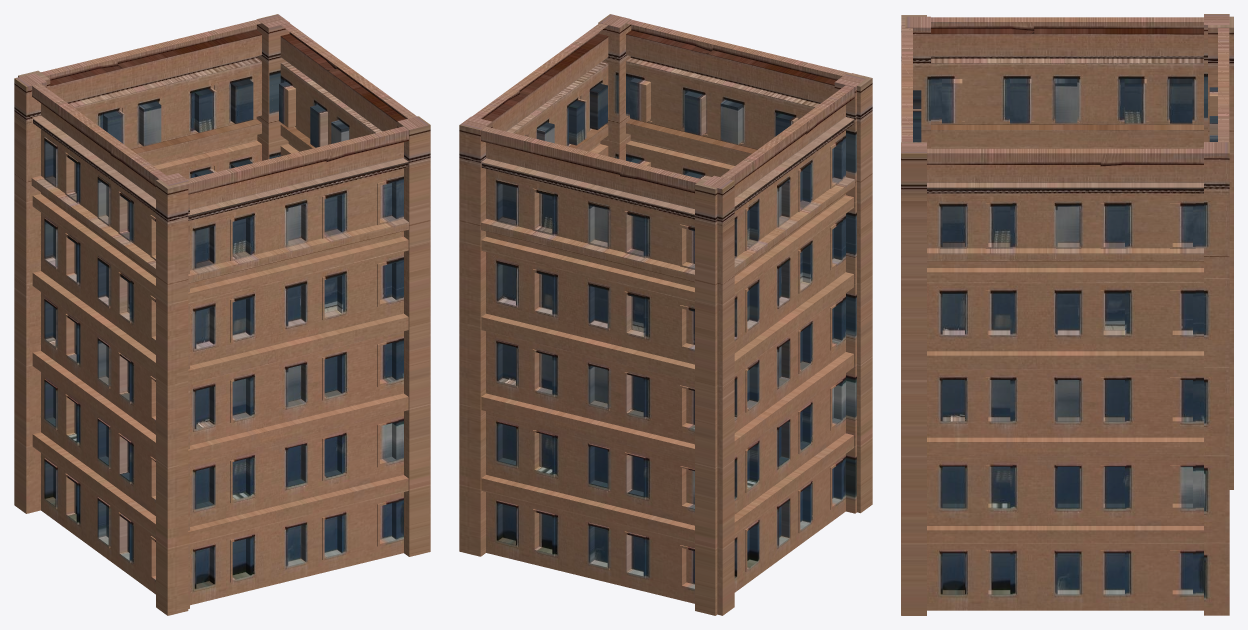
File: TestBuilding.fbx
The picture shows the model from 3 angles, left to right: view 1: azimuth 30°, elevation 25°; view 2: azimuth 150°, elevation 25°; view 3: azimuth 270°, elevation 25°; orthographic projection. The views are drawn at different scales.
Visible parts, largest first — view 1: Cube.004; view 2: Cube.004; view 3: Cube.004.
Boxes of the visible parts, left/top/right/bottom form: Cube.004: left=14, top=14, right=430, bottom=615; Cube.004: left=459, top=14, right=872, bottom=615; Cube.004: left=901, top=14, right=1233, bottom=615.
Size of the model in its own units: 1044 by 1038 by 1601.
1 material, 1 textured.
